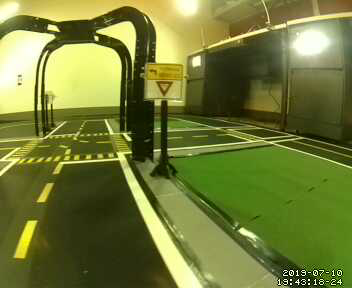Turn Yield: (144, 61, 186, 102)
